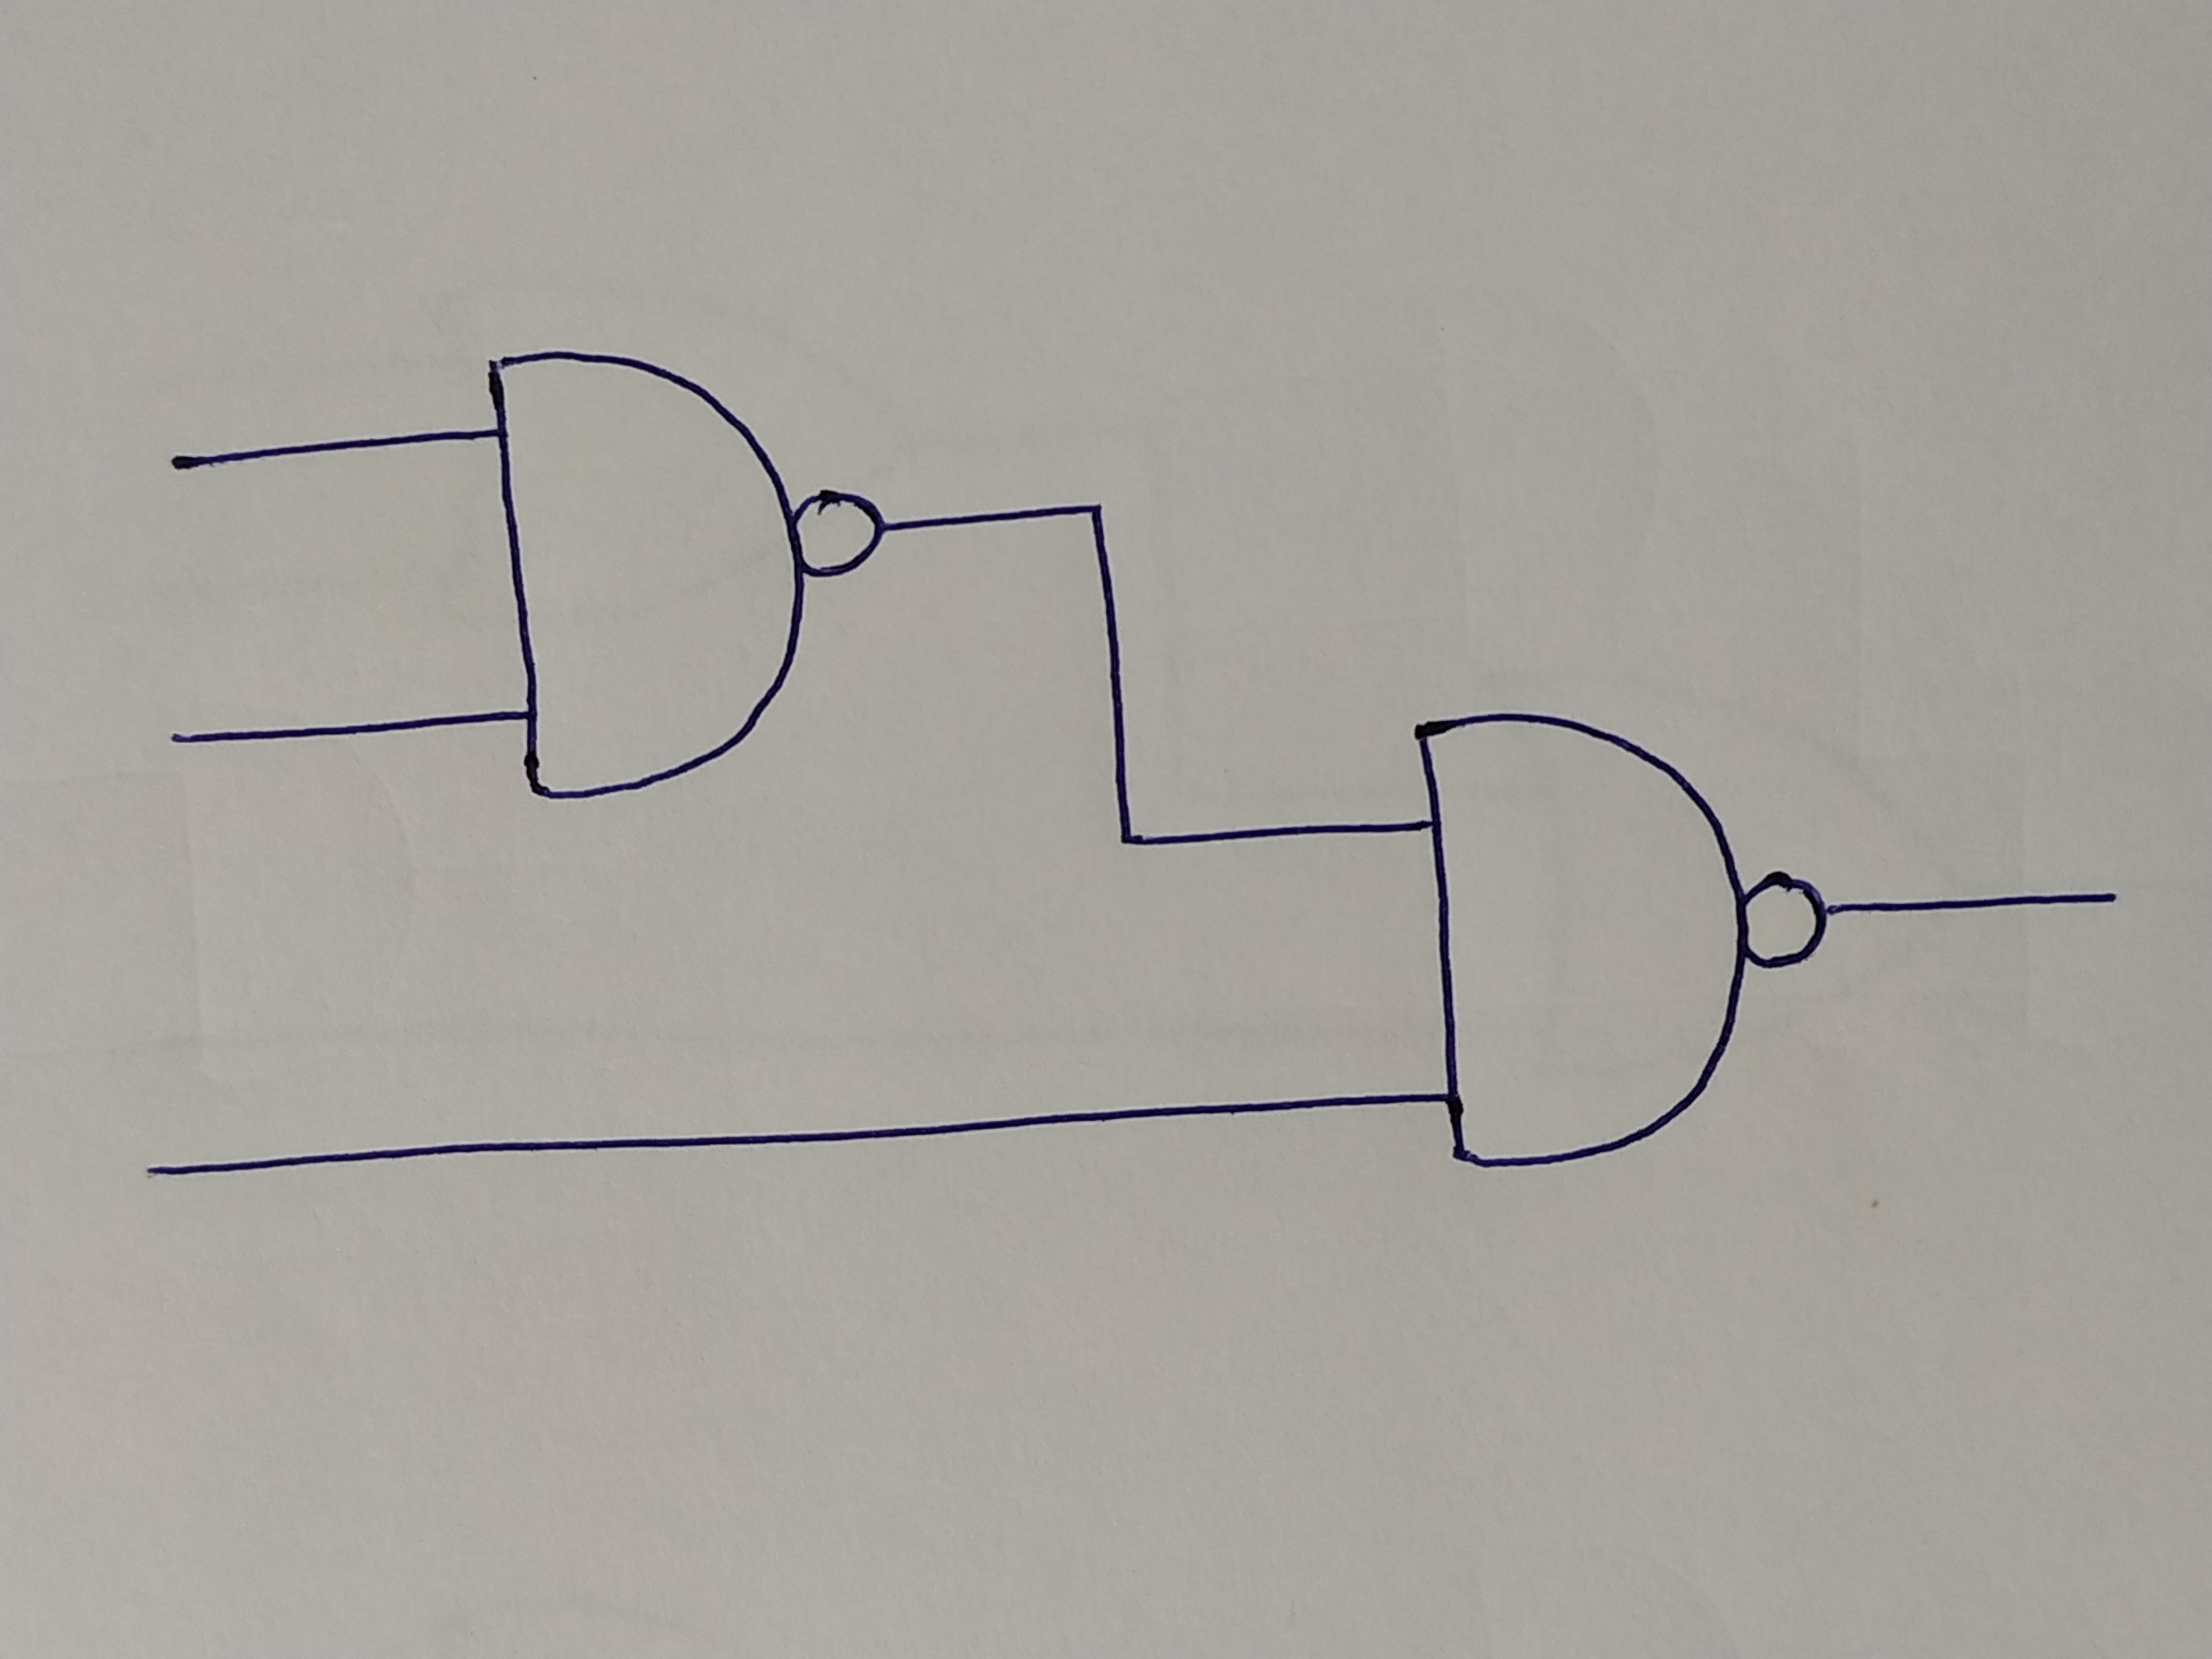and: (1411, 711, 1740, 1166), (484, 343, 799, 800)
not: (1740, 875, 1829, 969), (794, 493, 883, 570)
